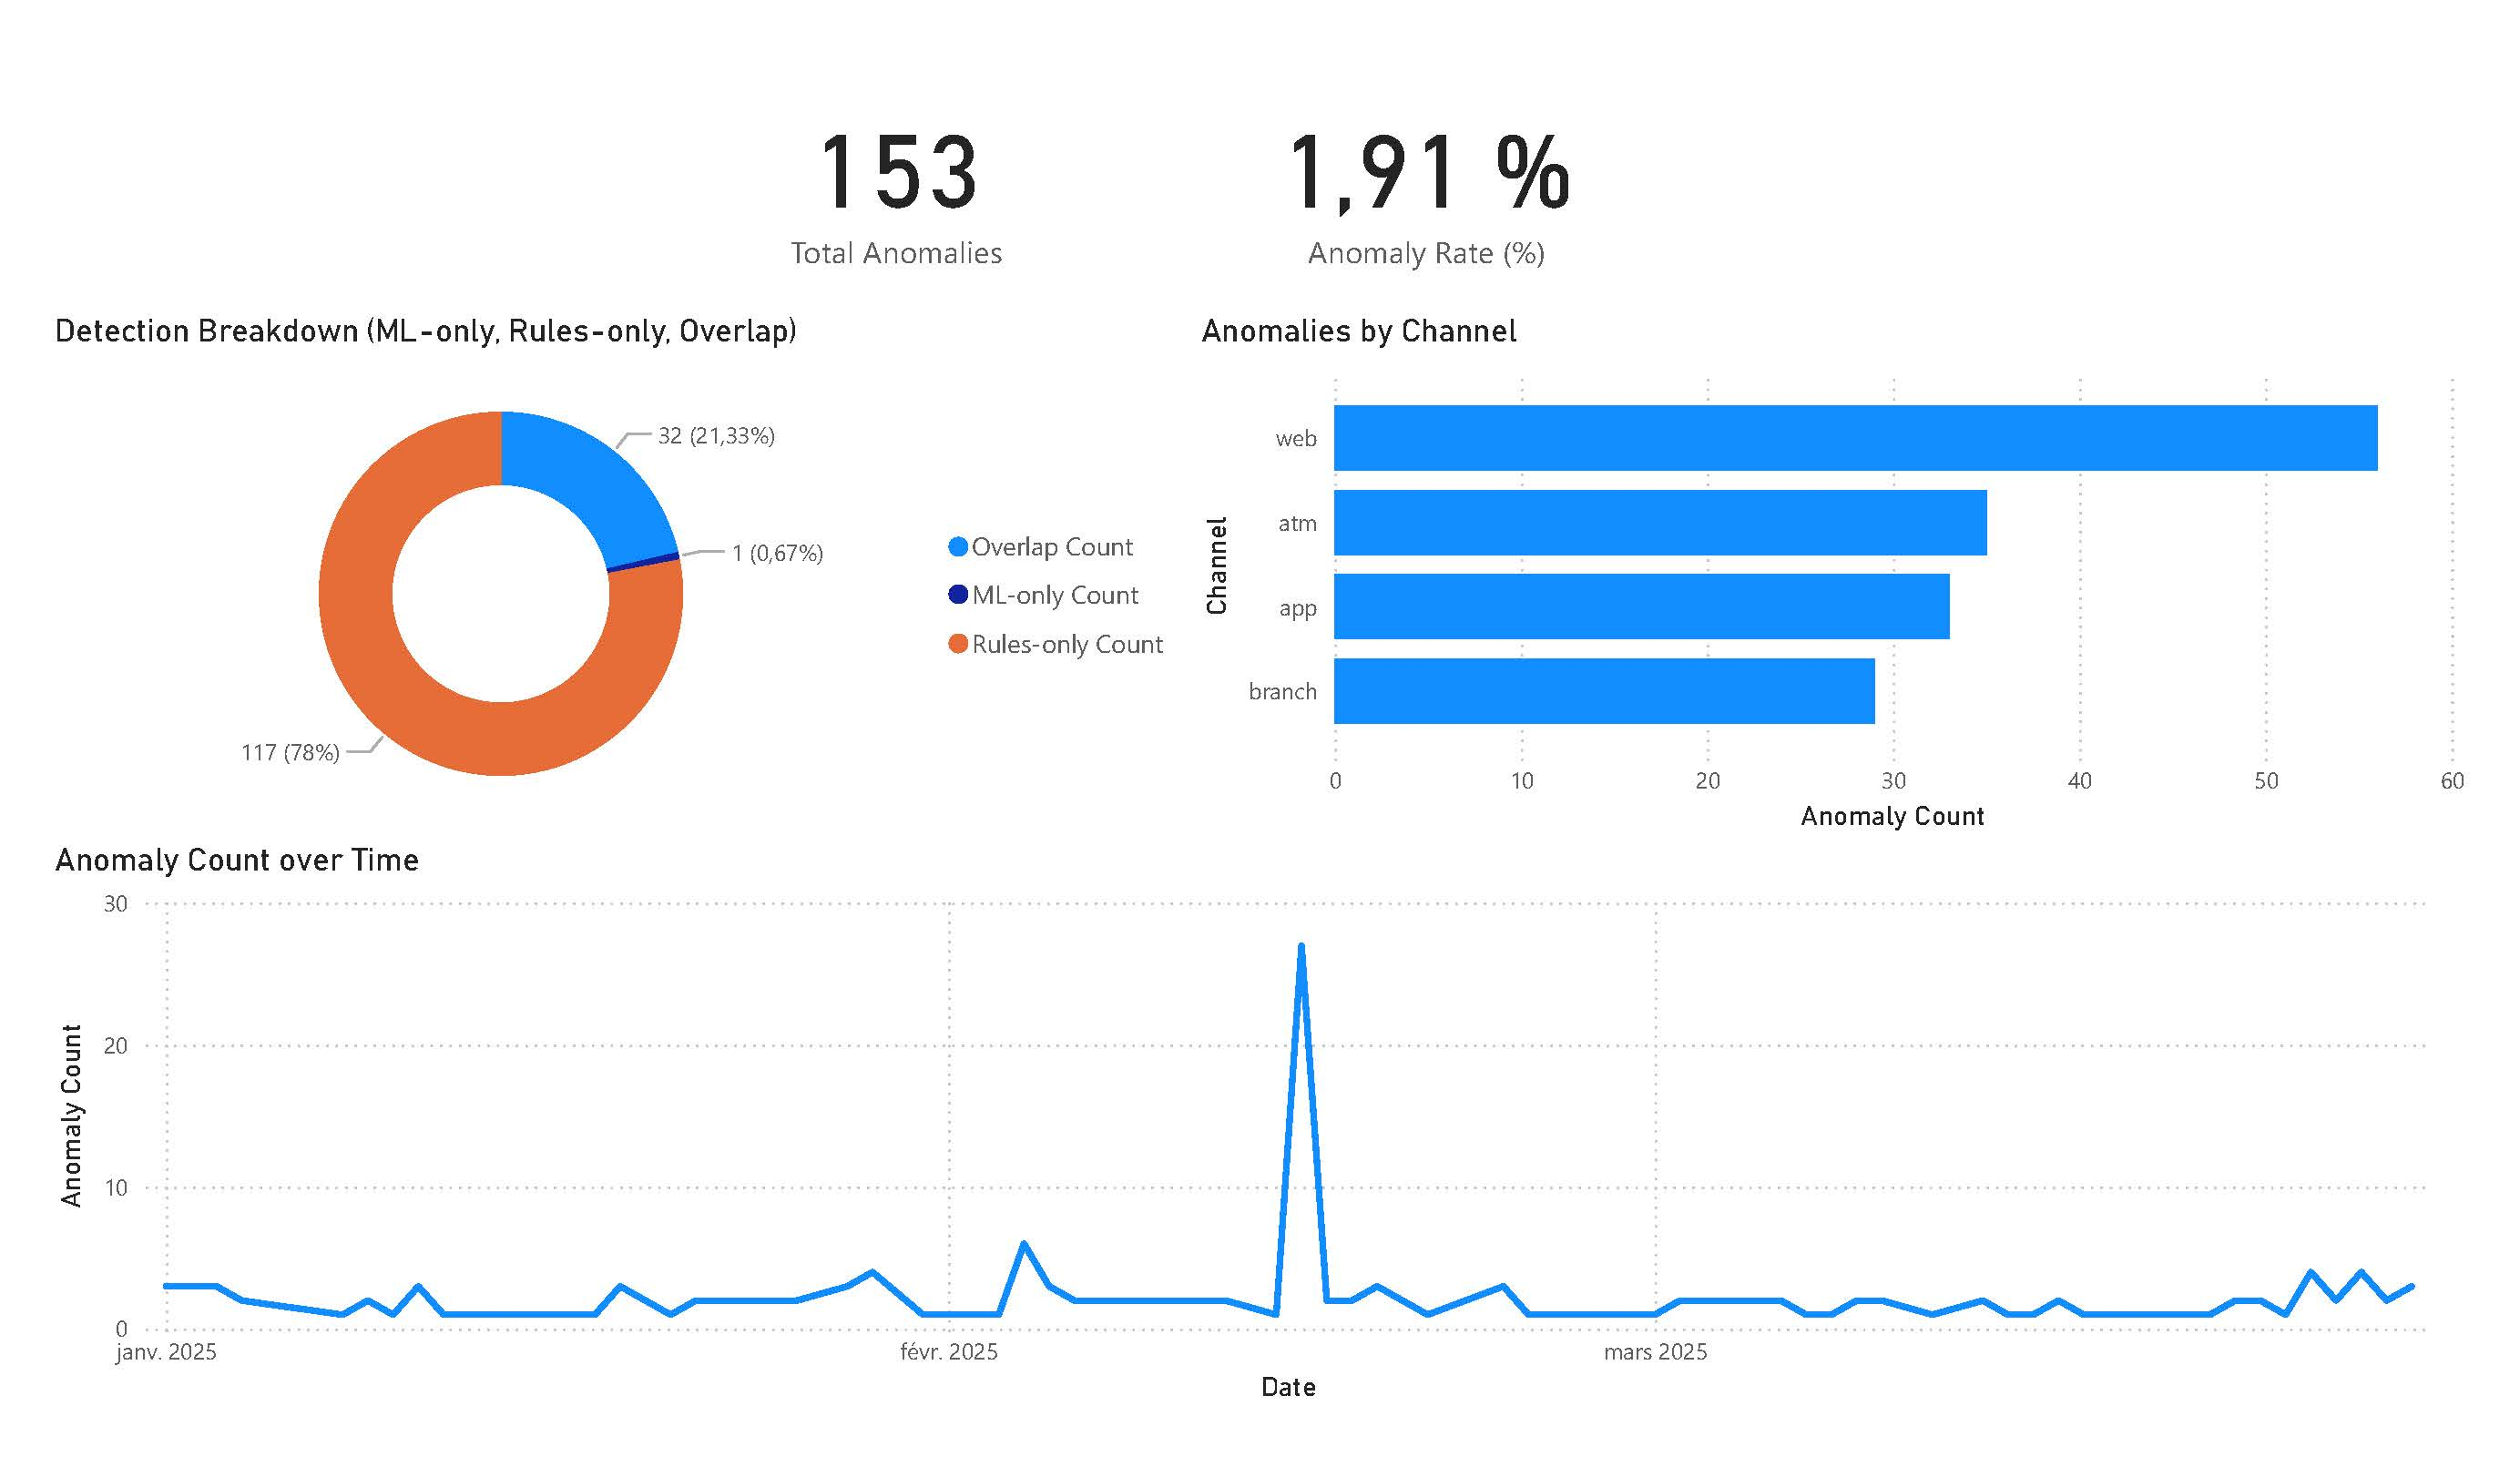

What the dashboard file says about the page in this screenshot:
{"tool":"powerbi","page":{"name":"Anomaly Volume & Trends","canvas":[1280,720],"ordinal":1},"visuals":[{"type":"card","fields":{"Values":["_Mesures4.Anomaly Count"]},"box":[308.7,0,279.4,139.7],"z":0},{"type":"card","fields":{"Values":["_Mesures4.Anomaly Rate %"]},"box":[588.1,0,279.4,139.7],"z":1},{"type":"lineChart","title":"Anomaly Count over Time","fields":{"Y":["_Mesures4.Anomaly Count"],"Category":["transactions_scored.timestamp.Variation.Hiérarchie de dates.Année","transactions_scored.timestamp.Variation.Hiérarchie de dates.Trimestre","transactions_scored.timestamp.Variation.Hiérarchie de dates.Mois","transactions_scored.timestamp.Variation.Hiérarchie de dates.Jour"]},"box":[0,419.1,1280,300.7],"z":2},{"type":"clusteredBarChart","title":"Anomalies by Channel","fields":{"Category":["transactions_scored.channel"],"Y":["_Mesures4.Anomaly Count"]},"box":[604.1,139.7,675.9,279.4],"z":3},{"type":"donutChart","title":"Detection Breakdown (ML-only, Rules-only, Overlap)","fields":{"Y":["_Mesures4.Overlap Count","_Mesures4.ML-only Count","_Mesures4.Rules-only Count"]},"box":[0,139.7,604.1,279.4],"z":4}]}

Visuals, with their boxes on the page's 1280x720 design canvas (x1, y1, x2, y2). These are canvas units, not pixel positions in the 2520x1457 screenshot, which may show the page scaled, cropped or inside an application window:
card - _Mesures4.Anomaly Count: [309, 0, 588, 140]
card - _Mesures4.Anomaly Rate %: [588, 0, 868, 140]
"Anomaly Count over Time" lineChart: [0, 419, 1280, 720]
"Anomalies by Channel" clusteredBarChart: [604, 140, 1280, 419]
"Detection Breakdown (ML-only, Rules-only, Overlap)" donutChart: [0, 140, 604, 419]
